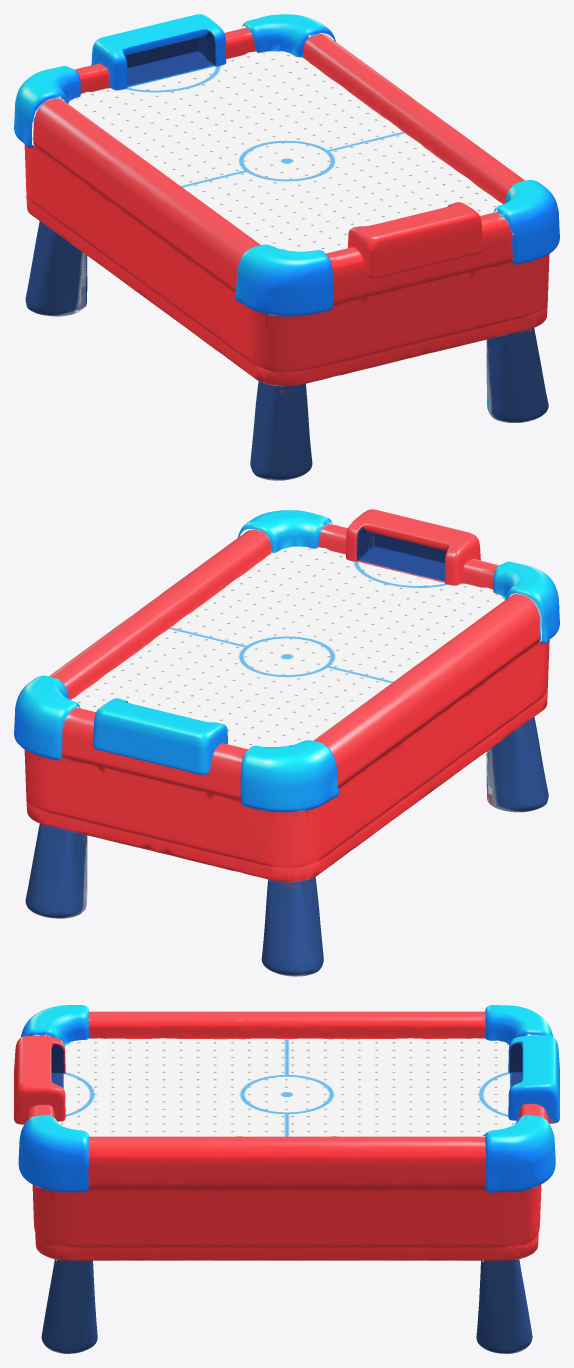
Rendered from air-smash-classic-table.glb.
The picture shows the model from 3 angles, top to bottom: view 1: azimuth 30°, elevation 25°; view 2: azimuth 150°, elevation 25°; view 3: azimuth 270°, elevation 25°; orthographic projection. The views are drawn at different scales.
Parts seen in each view (by area): view 1: table; view 2: table; view 3: table.
Part boxes in pixels (left/top/right/bottom): table: left=14, top=14, right=559, bottom=480; table: left=14, top=509, right=559, bottom=976; table: left=14, top=1005, right=559, bottom=1353.
Bounding box in the file's own units: 7.88 × 5.68 × 12.31.
Materials: 1 (1 with a texture image).
